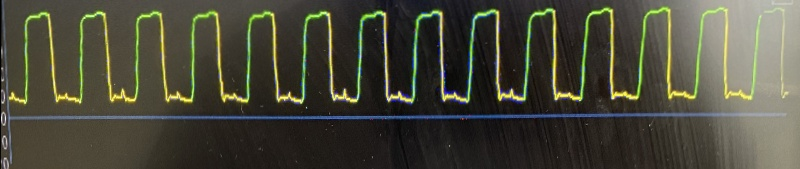hydrop_pressure: (4, 0, 769, 117)
